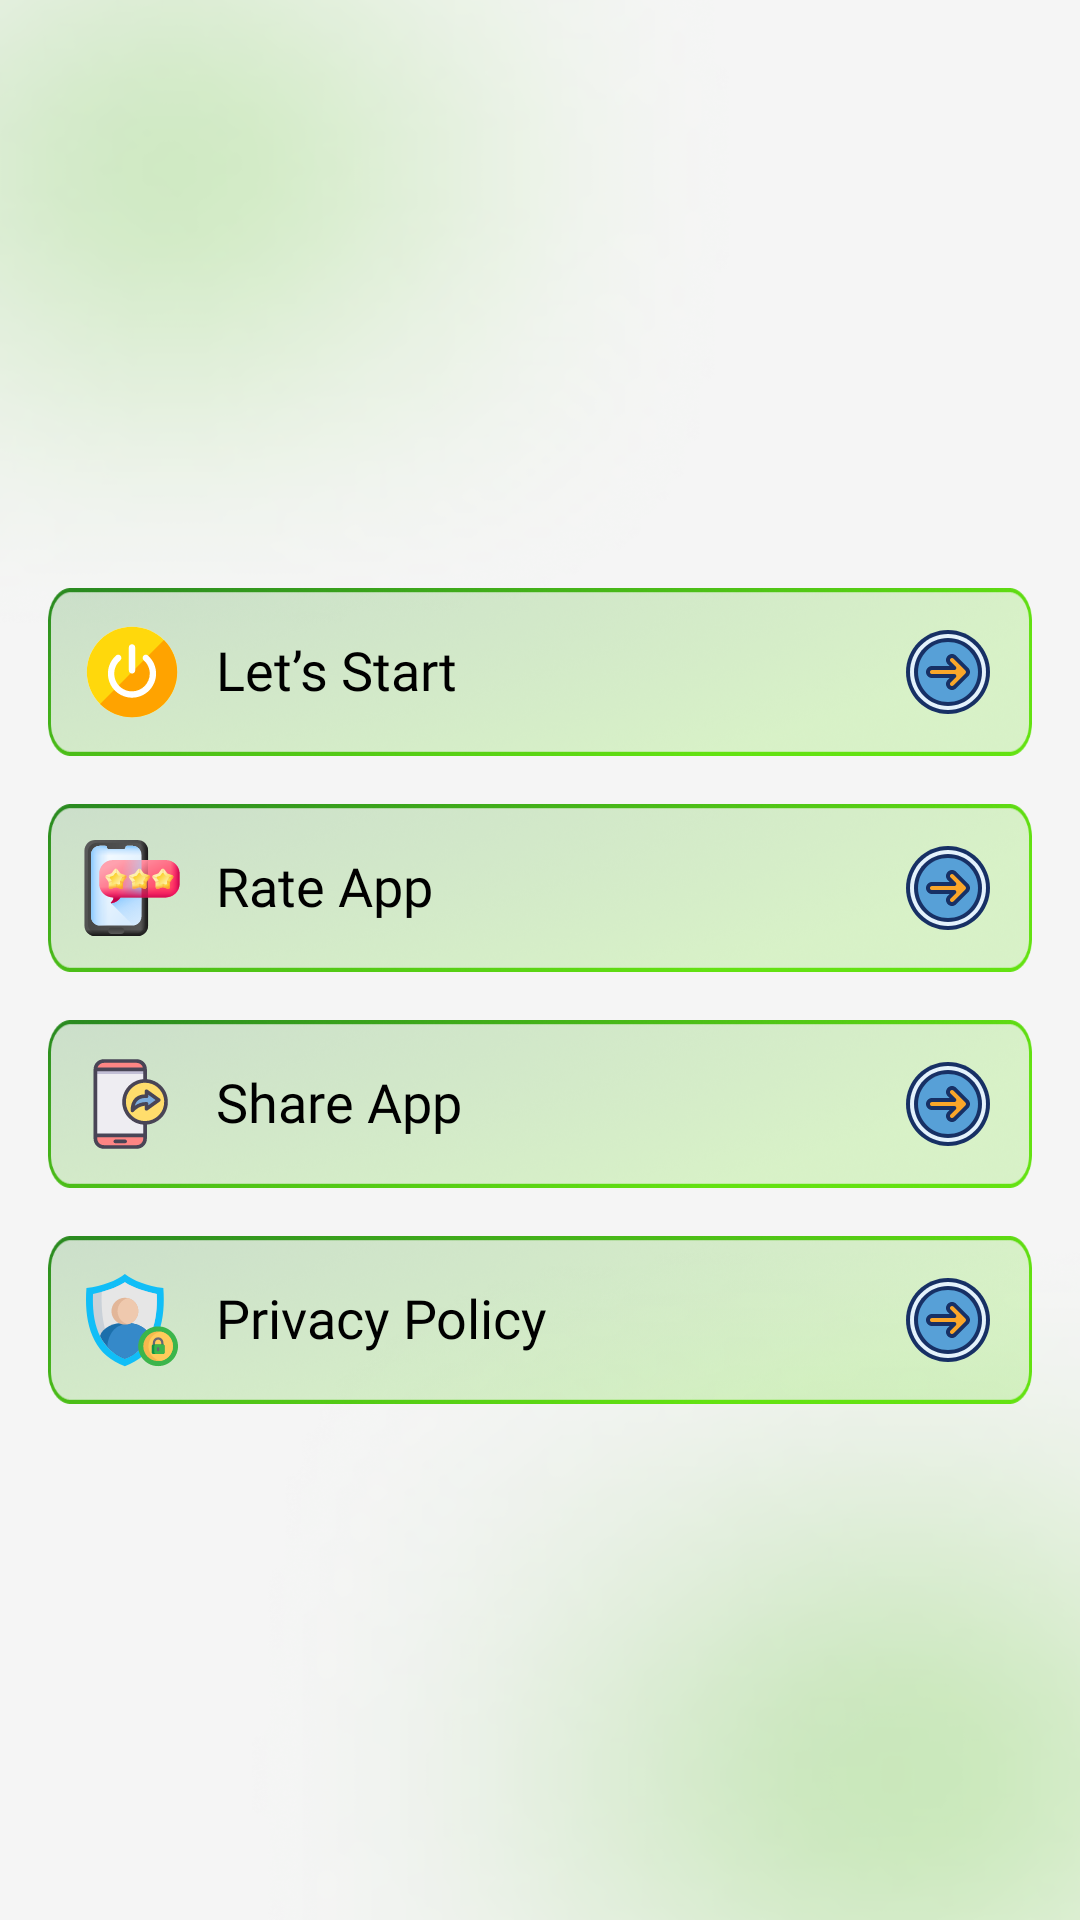

Screen size 1080×1920. Icon name, then its center in pixels as (x=x, y=y):
arrow: (x=948, y=672), (x=948, y=888), (x=948, y=1104), (x=948, y=1320)
